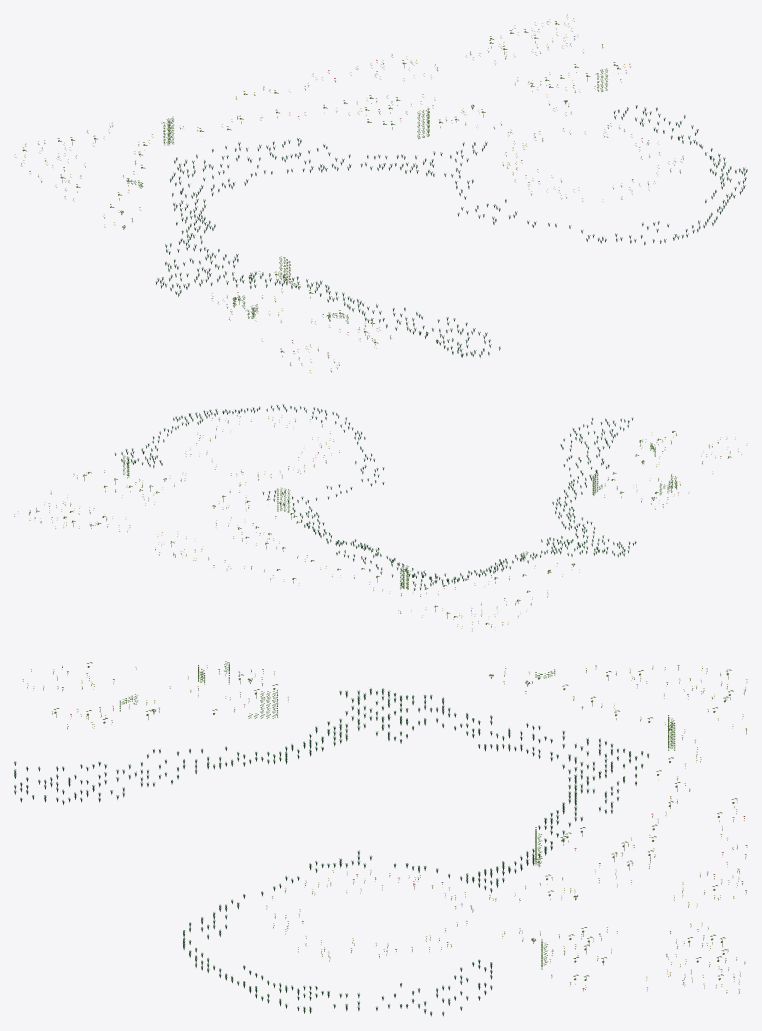
The picture shows the model from 3 angles, top to bottom: view 1: azimuth 30°, elevation 25°; view 2: azimuth 150°, elevation 25°; view 3: azimuth 270°, elevation 25°; orthographic projection. The views are drawn at different scales.
Parts seen in each view (by area): view 1: GROUND_FLORA_s_-8_1; view 2: GROUND_FLORA_s_-8_1; view 3: GROUND_FLORA_s_-8_1.
Part boxes in pixels (x1,y1,x2,y2): GROUND_FLORA_s_-8_1: (14, 14, 747, 372); GROUND_FLORA_s_-8_1: (14, 404, 747, 631); GROUND_FLORA_s_-8_1: (14, 661, 747, 1016).
Size of the model in its own units: 128 by 10 by 122.
